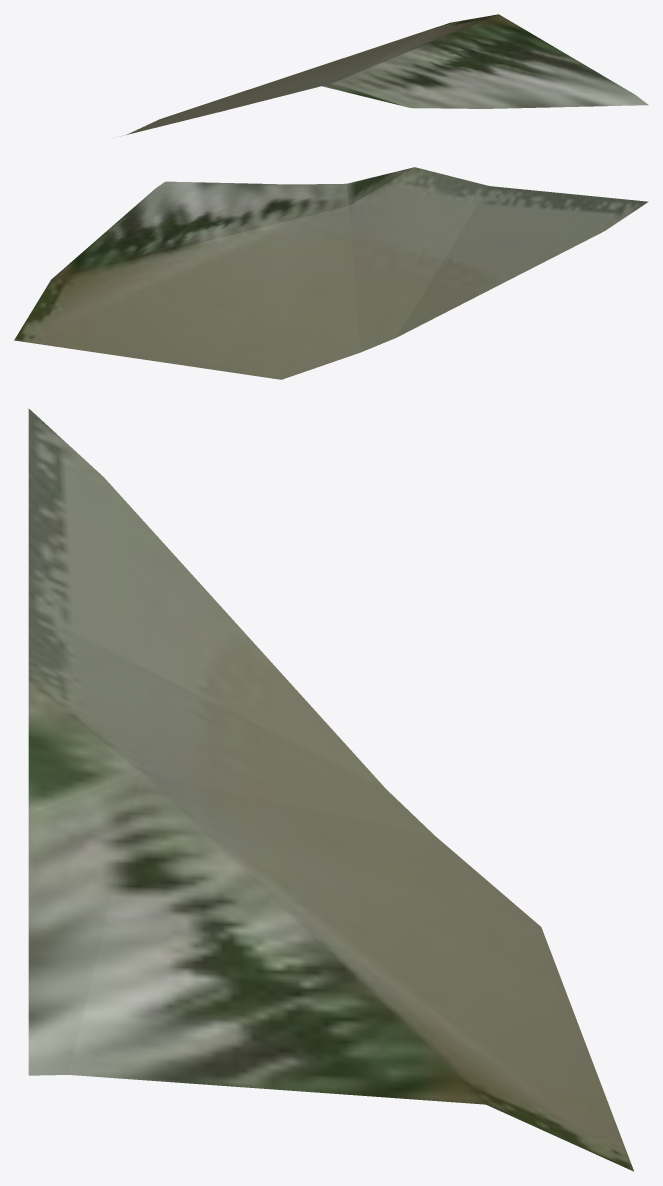
The picture shows the model from 3 angles, top to bottom: view 1: azimuth 30°, elevation 25°; view 2: azimuth 150°, elevation 25°; view 3: azimuth 270°, elevation 25°; orthographic projection. The views are drawn at different scales.
Bounding box in the file's own units: 1.56 × 0.4493 × 0.8454.
Materials: 1 (1 with a texture image).
